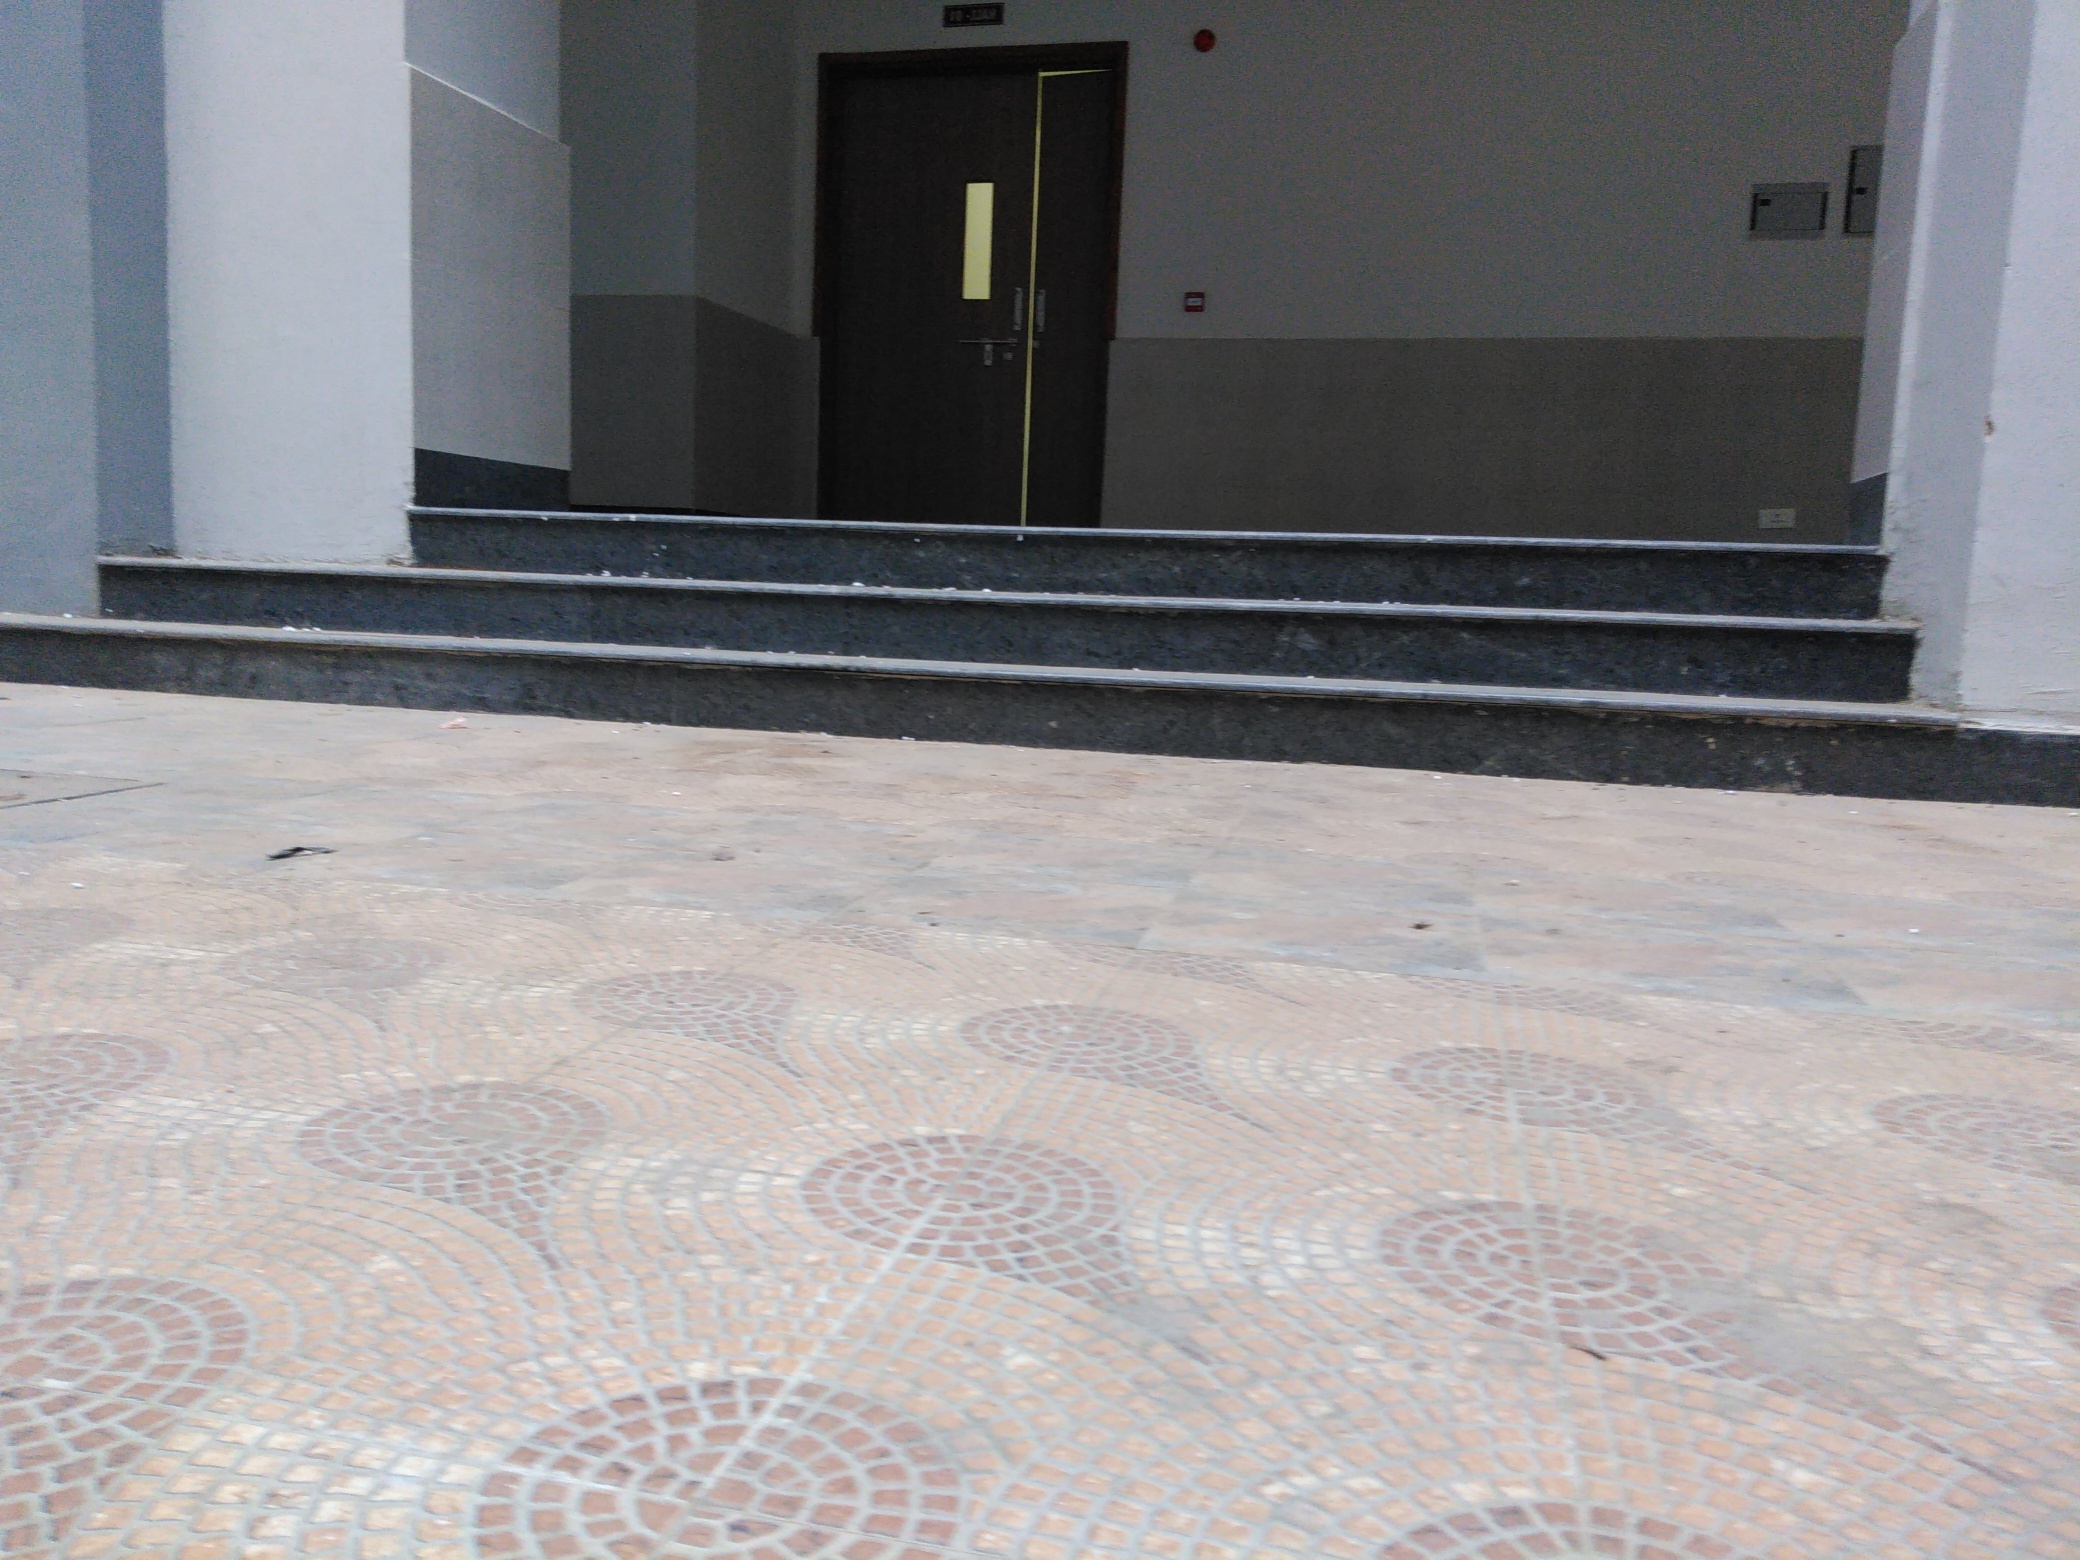stairs_up: (170, 516, 1877, 719)
